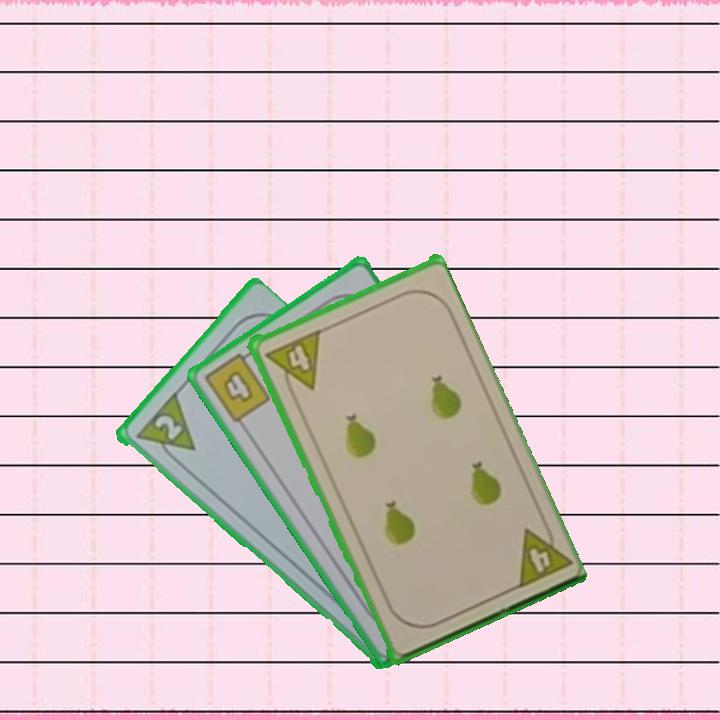2p: (149, 411, 185, 444)
4b: (200, 346, 273, 426)
4p: (510, 516, 572, 592), (260, 327, 323, 400)
